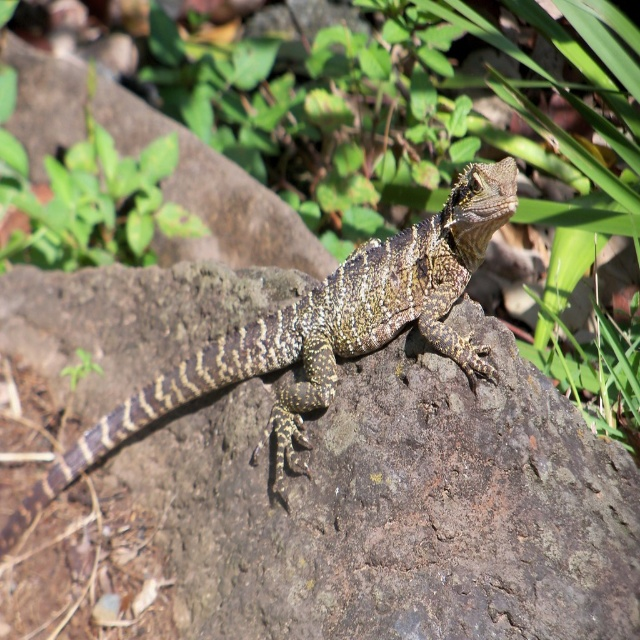Lizard: (0, 152, 519, 557)
